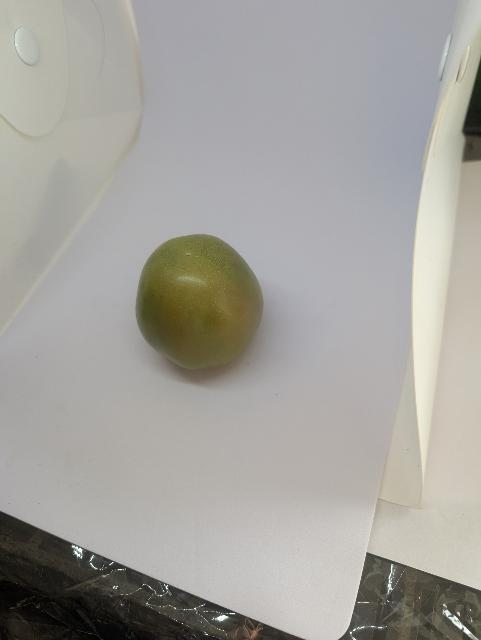breaker: (136, 232, 267, 374)
